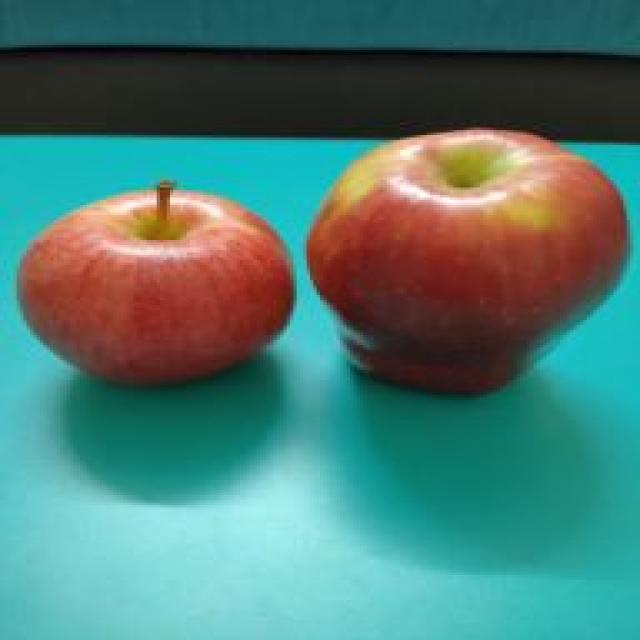Good_Apple: (303, 128, 630, 400), (13, 182, 297, 392)
